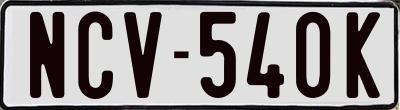0: (296, 9, 334, 100)
4: (246, 9, 284, 98)
5: (198, 12, 234, 102)
C: (78, 8, 114, 97)
K: (346, 11, 384, 103)
N: (30, 12, 66, 103)
V: (121, 11, 162, 102)
